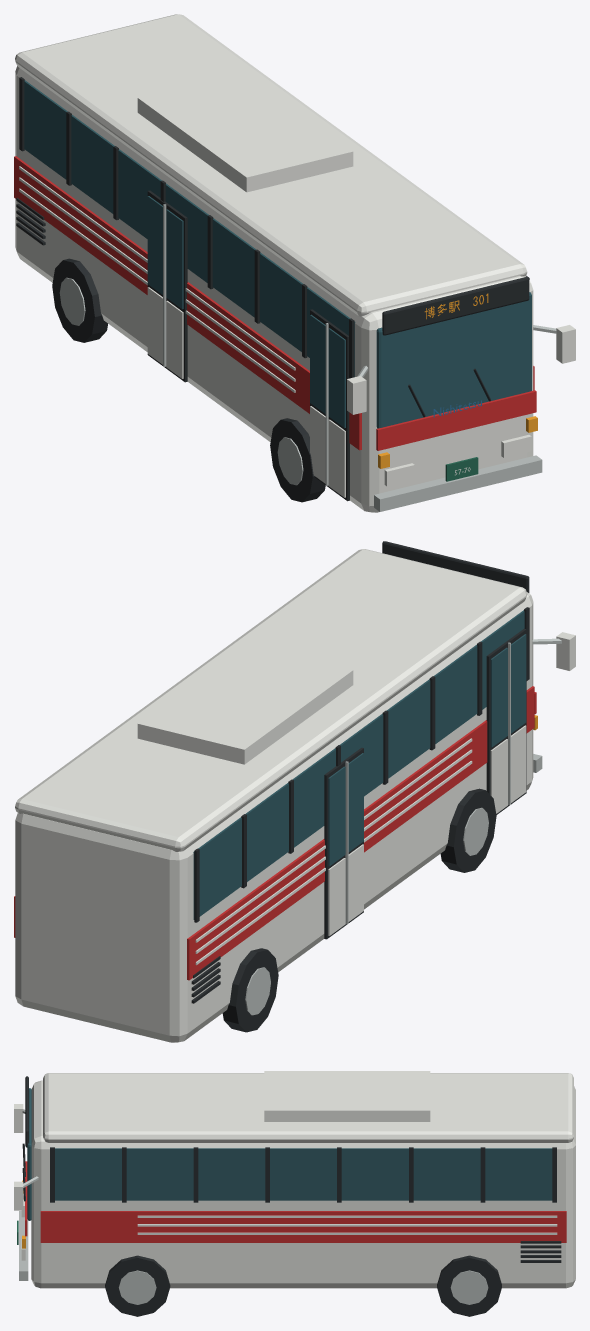
3 views of the same model, one above another, from view 1: azimuth 30°, elevation 25°; view 2: azimuth 150°, elevation 25°; view 3: azimuth 270°, elevation 25° (orthographic). The views are drawn at different scales.
Visible parts, largest first — view 1: nishitetsu-city-bus; view 2: nishitetsu-city-bus; view 3: nishitetsu-city-bus.
Boxes of the visible parts, left/top/right/bottom form: nishitetsu-city-bus: left=14, top=14, right=575, bottom=512; nishitetsu-city-bus: left=14, top=541, right=575, bottom=1042; nishitetsu-city-bus: left=14, top=1071, right=575, bottom=1316.
Size of the model in its own units: 3.13 by 3.38 by 8.97.
